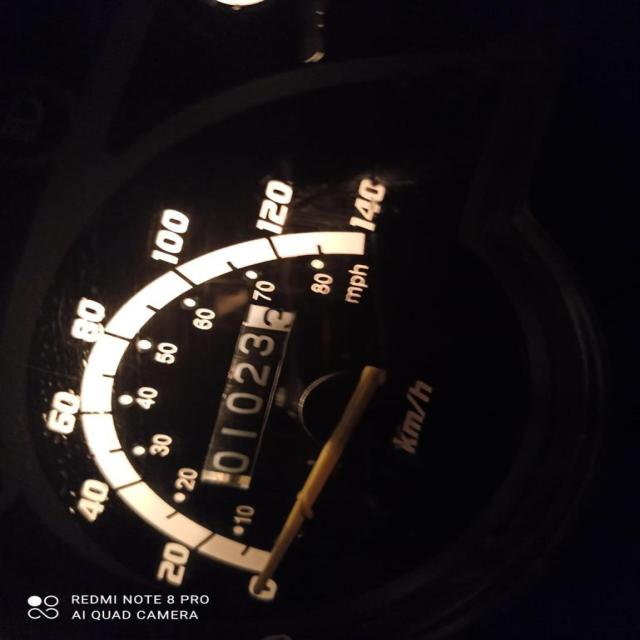odometer: (194, 300, 299, 500)
